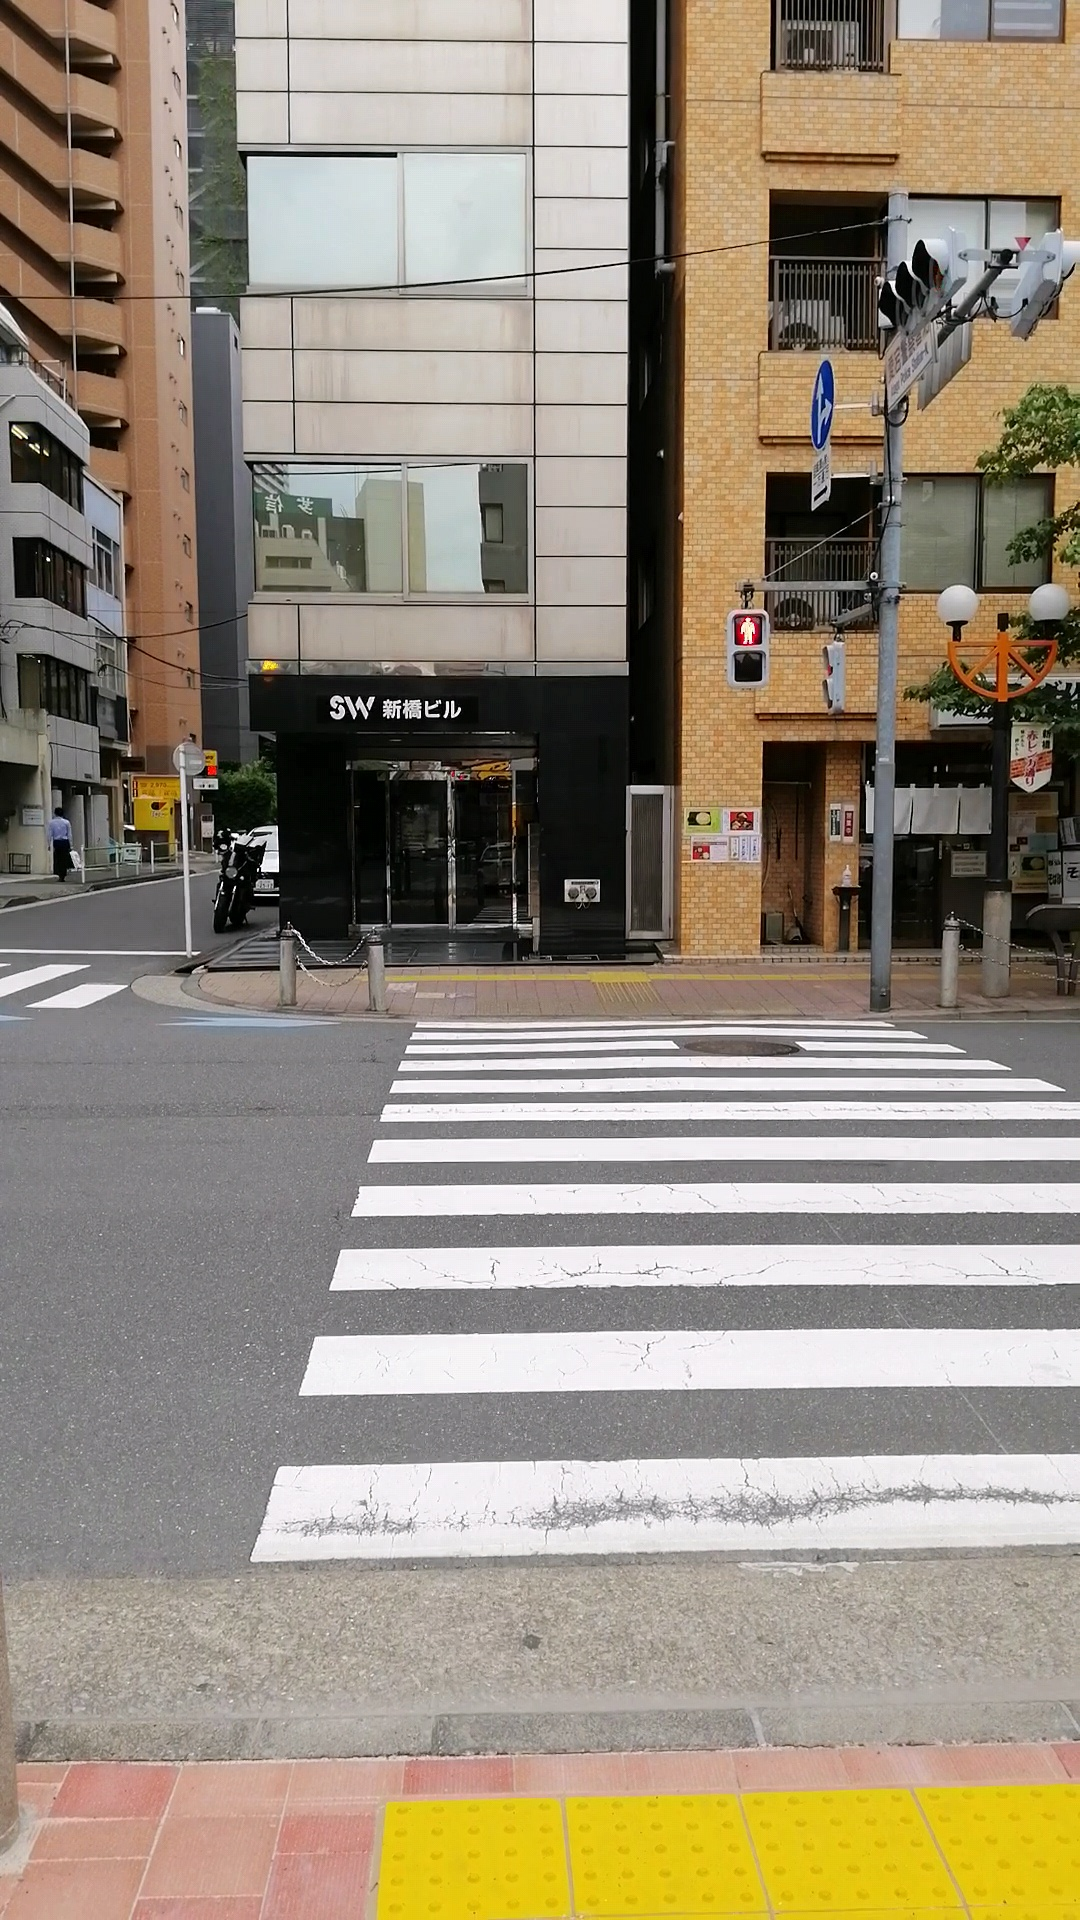red: (728, 607, 767, 686)
